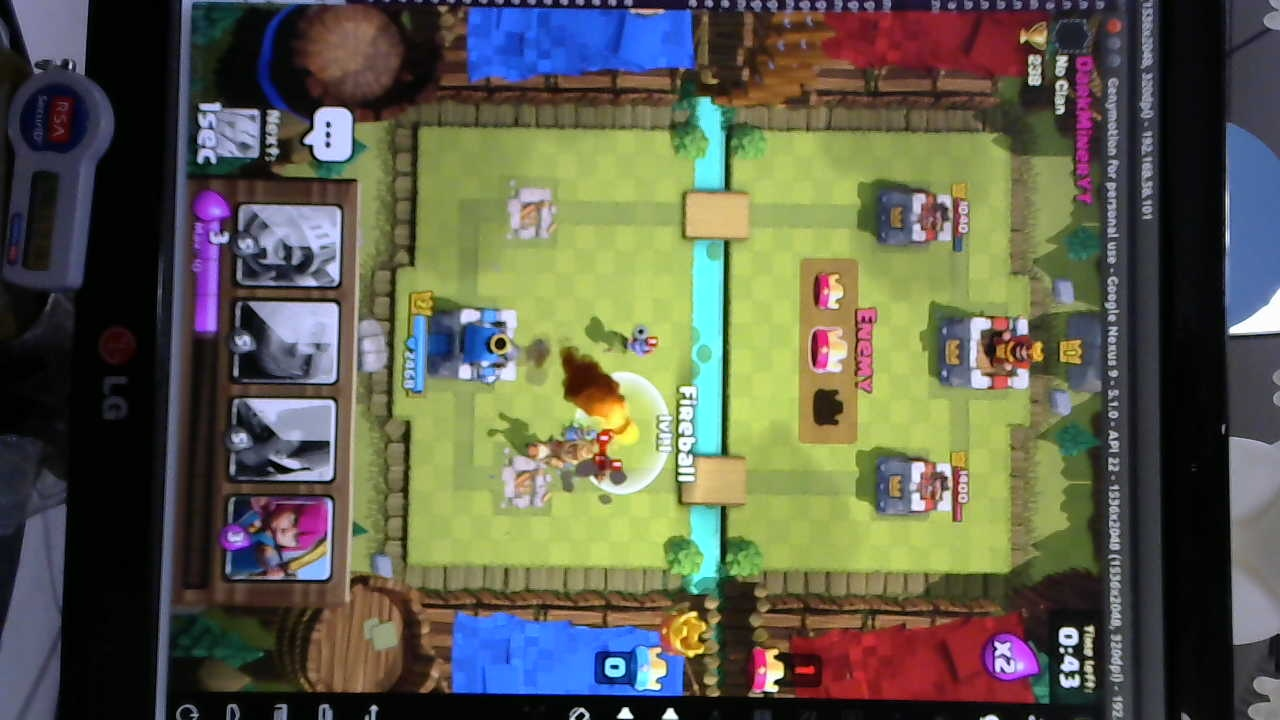darena: (494, 450, 554, 517), (501, 183, 558, 248)
earena: (875, 452, 954, 521), (884, 188, 956, 247)
eking: (937, 310, 1039, 392)
king: (428, 301, 523, 391)
musketeer: (621, 323, 659, 359)
prince: (525, 428, 601, 475)
